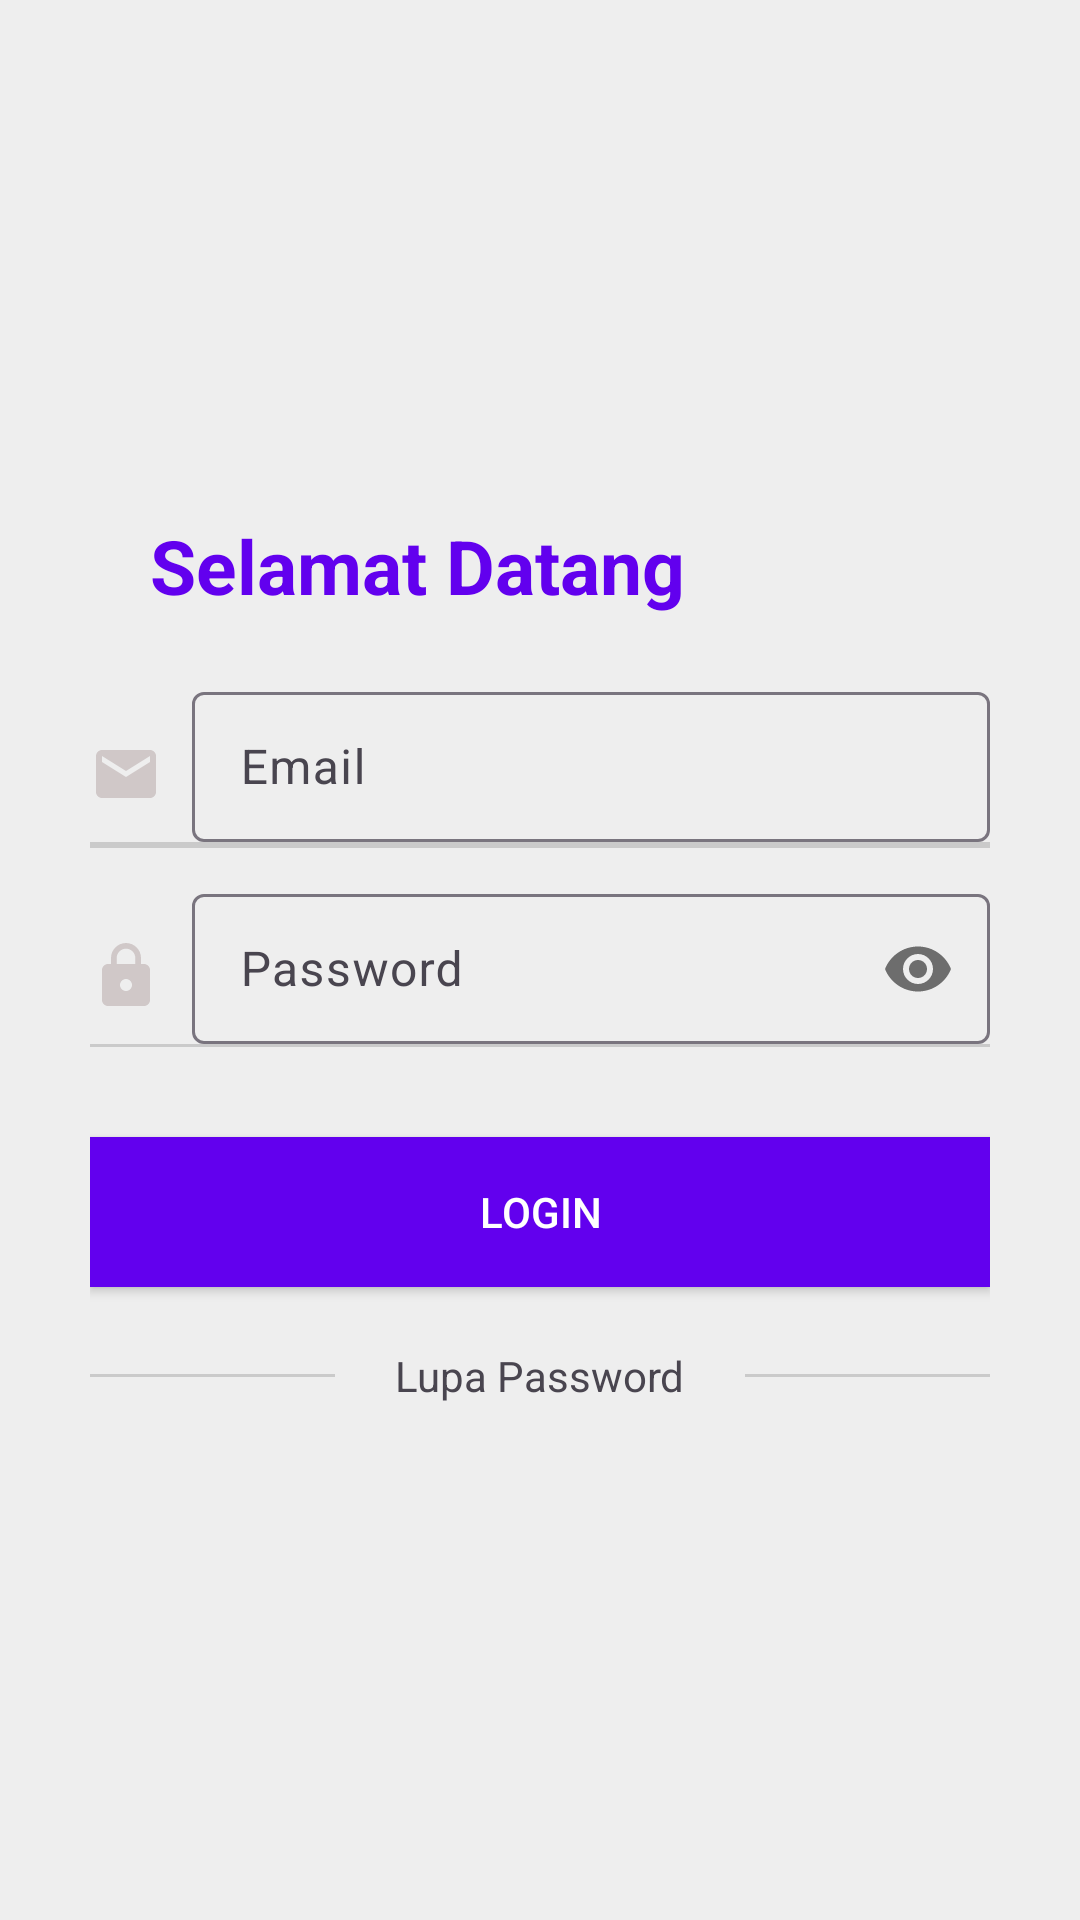

Named icons in this screenshot (1080px×1920px) and their centers, (x,y):
lock: (126,974)
